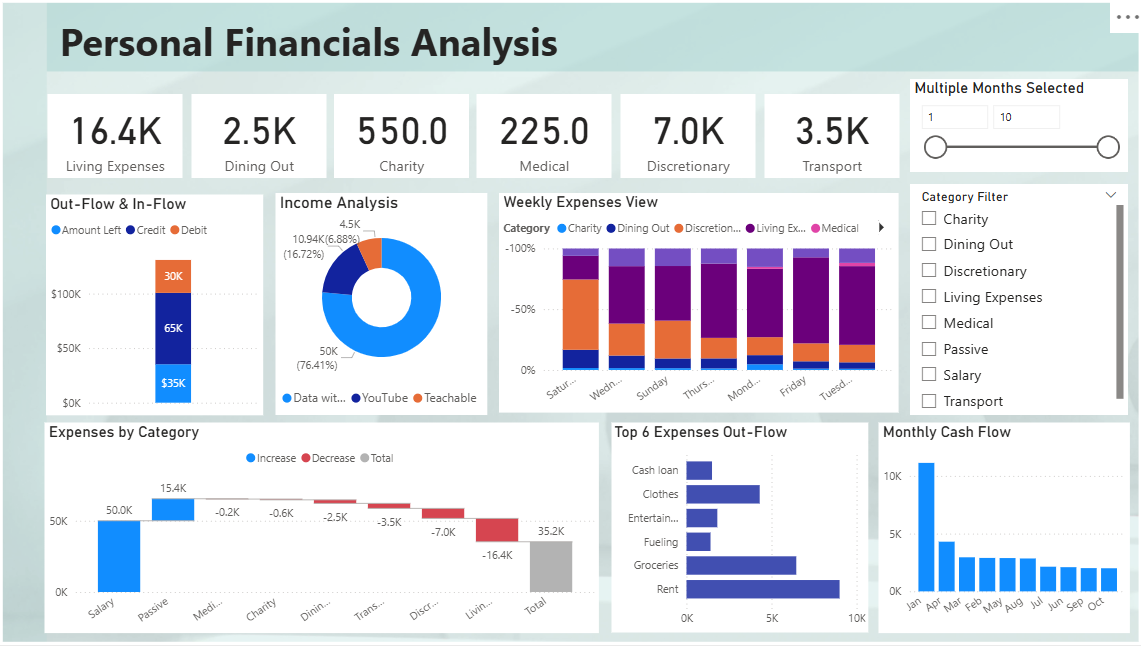

Layout of this report page (visuals, bound fields, positions):
{"tool":"powerbi","page":{"name":"Page 1","canvas":[1280,720],"ordinal":0},"visuals":[{"type":"image","box":[0,0,1279.4,720],"z":0},{"type":"hundredPercentStackedColumnChart","title":"Weekly Expenses View","fields":{"Series":["Sheet1.Category"],"Y":["Sum(Sheet1.Amount)"],"Category":["Sheet1.Weekday"]},"box":[560,217,444,244.3],"z":1000},{"type":"donutChart","title":"Income Analysis","fields":{"Category":["Sheet1.Sub-category"],"Y":["Sum(Sheet1.Amount)"]},"box":[311.7,216.7,235,246.7],"z":2000},{"type":"clusteredColumnChart","title":"Monthly Cash Flow","fields":{"Category":["Sheet1.Month Name"],"Y":["Sum(Sheet1.Amount)"]},"box":[981.4,471.4,279,234.3],"z":3000},{"type":"slicer","fields":{"Values":["Sheet1.Category"]},"box":[1017.1,207.1,242,255.7],"z":4000},{"type":"slicer","title":"Multiple Months Selected","fields":{"Values":["Sheet1.Month Number"]},"box":[1017.1,90,241.4,102.9],"z":5000},{"type":"clusteredBarChart","title":"Top 6 Expenses Out-Flow","fields":{"Y":["Sum(Sheet1.Amount)","select"],"Category":["Sheet1.Sub-category"]},"box":[685,471.7,285,233.3],"z":6000},{"type":"textbox","box":[56.7,13.2,583.9,75.6],"z":7000},{"type":"waterfallChart","title":"Expenses by Category","fields":{"Category":["Sheet1.Category"],"Y":["Sum(Sheet1.Amount)"]},"box":[55.7,471.4,616,234],"z":8000},{"type":"columnChart","title":"Out-Flow & In-Flow","fields":{"Y":["Sum(Sheet1.Amount)","Sum(Sheet1.Credit)","Sum(Sheet1.Debit)"]},"box":[56.2,217.5,241.2,245],"z":9000},{"type":"card","fields":{"Values":["Sum(Sheet1.Amount)","select"]},"box":[58.3,106.7,150,93.3],"z":10000},{"type":"card","fields":{"Values":["Sum(Sheet1.Amount)","select"]},"box":[218,106.7,150,93.3],"z":11000},{"type":"card","fields":{"Values":["Sum(Sheet1.Amount)","select"]},"box":[377,106.7,150,93.3],"z":12000},{"type":"card","fields":{"Values":["Sum(Sheet1.Amount)","select"]},"box":[535,106,150,93.3],"z":13000},{"type":"card","fields":{"Values":["Sum(Sheet1.Amount)","select"]},"box":[695,106.7,150,93.3],"z":14000},{"type":"card","fields":{"Values":["Sum(Sheet1.Amount)","select"]},"box":[855,106,150,93.3],"z":15000}]}

Visuals, with their boxes in screenshot pixels (x1, y1, x2, y2), scaled from the page's 1280x720 canvas onto the 1141x646 screenshot:
image: select_region(0, 0, 1140, 645)
"Weekly Expenses View" hundredPercentStackedColumnChart: select_region(499, 195, 895, 414)
"Income Analysis" donutChart: select_region(278, 194, 487, 416)
"Monthly Cash Flow" clusteredColumnChart: select_region(875, 423, 1124, 633)
slicer - Sheet1.Category: select_region(907, 186, 1122, 415)
"Multiple Months Selected" slicer: select_region(907, 81, 1122, 173)
"Top 6 Expenses Out-Flow" clusteredBarChart: select_region(611, 423, 865, 633)
textbox: select_region(51, 12, 571, 80)
"Expenses by Category" waterfallChart: select_region(50, 423, 599, 633)
"Out-Flow & In-Flow" columnChart: select_region(50, 195, 265, 415)
card - Sum(Sheet1.Amount) x select: select_region(52, 96, 186, 179)
card - Sum(Sheet1.Amount) x select: select_region(194, 96, 328, 179)
card - Sum(Sheet1.Amount) x select: select_region(336, 96, 470, 179)
card - Sum(Sheet1.Amount) x select: select_region(477, 95, 611, 179)
card - Sum(Sheet1.Amount) x select: select_region(620, 96, 753, 179)
card - Sum(Sheet1.Amount) x select: select_region(762, 95, 896, 179)
